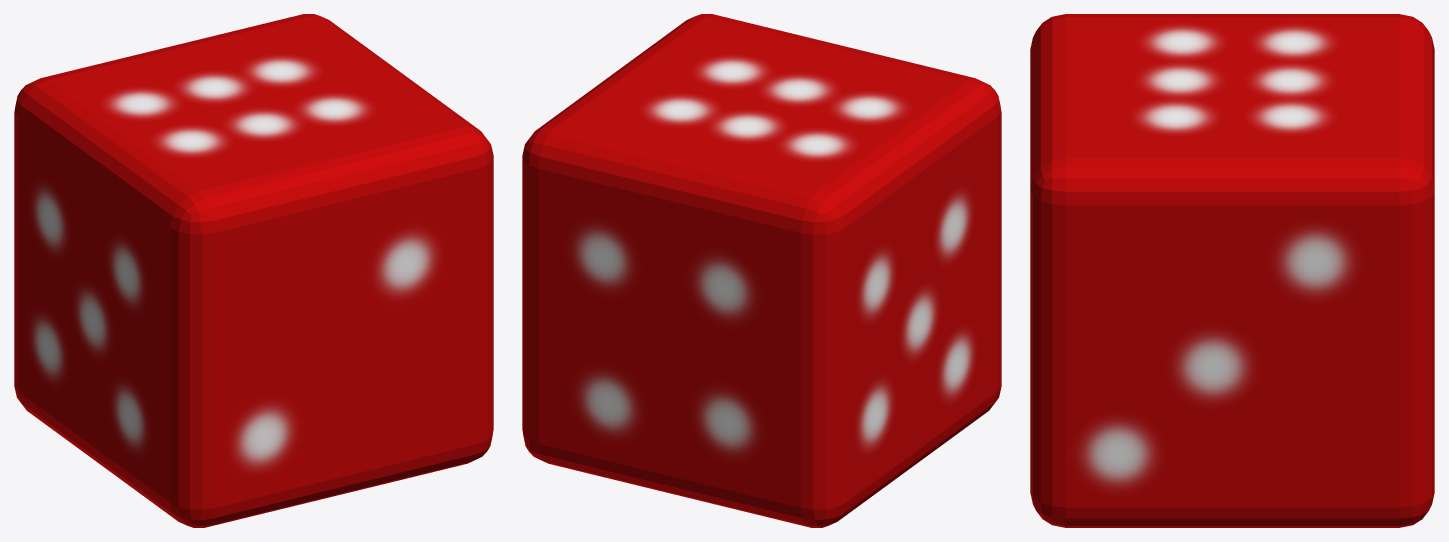
Rendered from Dice red.fbx.
3 renders of one model, left to right at view 1: azimuth 30°, elevation 25°; view 2: azimuth 150°, elevation 25°; view 3: azimuth 270°, elevation 25°, orthographic. The views are drawn at different scales.
Visible parts, largest first — view 1: Cube; view 2: Cube; view 3: Cube.
Part boxes in pixels (x1,y1,x2,y2): Cube: (14,14,493,527); Cube: (522,14,1001,527); Cube: (1030,14,1434,527).
Size of the model in its own units: 200 by 200 by 200.
